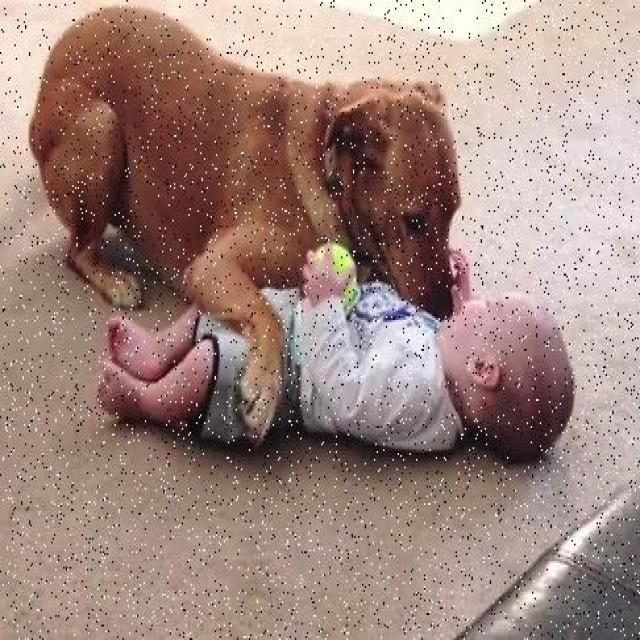fall: (98, 264, 596, 451)
